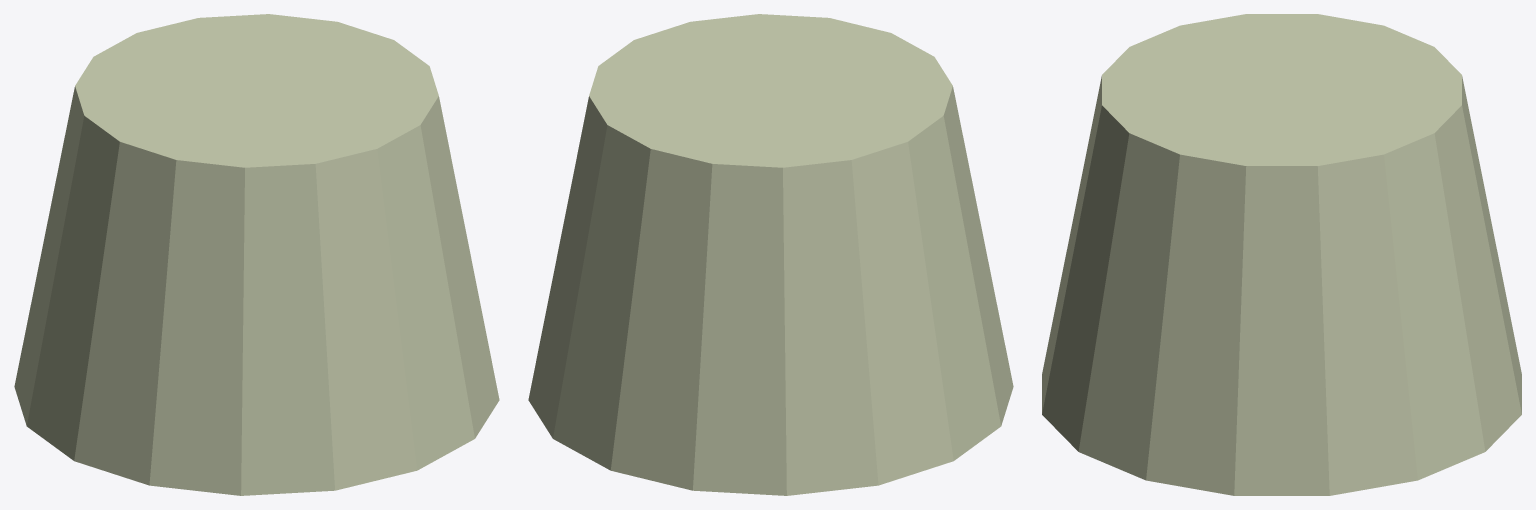
The model's file is aquila_crew_s1_3_1_collider.obj.
3 renders of one model, left to right at view 1: azimuth 30°, elevation 25°; view 2: azimuth 150°, elevation 25°; view 3: azimuth 270°, elevation 25°, orthographic.
Visible parts, largest first — view 1: aquila_crew_s1_3_1_collider; view 2: aquila_crew_s1_3_1_collider; view 3: aquila_crew_s1_3_1_collider.
Part boxes in pixels (bbox=[...]): aquila_crew_s1_3_1_collider: bbox=[14, 14, 499, 495]; aquila_crew_s1_3_1_collider: bbox=[528, 14, 1013, 495]; aquila_crew_s1_3_1_collider: bbox=[1042, 14, 1521, 495].
Bounding box in the file's own units: 1.25 × 0.875 × 1.25.
